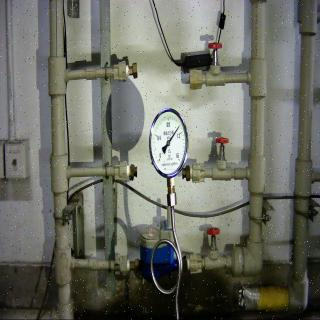gauge: (148, 107, 188, 179), (174, 154, 184, 164), (155, 157, 163, 167), (165, 140, 171, 147), (177, 124, 180, 128)
